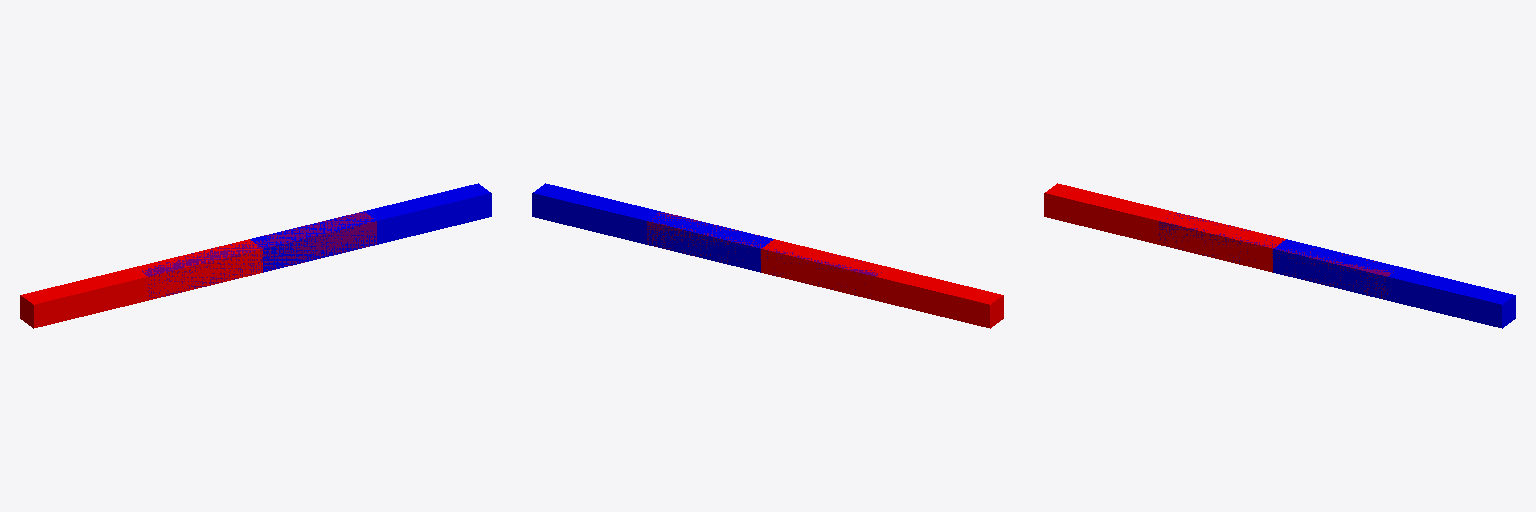
robot.urdf — rr_manipulator:
<?xml version="1.0"?> 
<!-- Revolute-Revolute Manipulator -->
<robot name="rr_manipulator">
  <gazebo>
    <plugin
      name="ros_control" 
      filename="libros_control_gazebo_plugin.so"/>
  </gazebo>

  <link name="link1">
    <origin xyz="0 0 0" rpy="0 0 0"/>
    <collision name="collision">
      <geometry> <box size="10 1 1"/> </geometry>
    </collision>
    <visual name="visual">
      <geometry> <box size="10 1 1"/> </geometry>
      <material> <color rgba="1 0 0 1"/> </material>
    </visual>
  </link>

  <link name="link2">
    <origin xyz="0 0 0" rpy="0 0 0"/>
    <collision name="collision">
      <geometry> <box size="10 1 1"/> </geometry>
    </collision>
    <visual name="visual">
      <geometry> <box size="10 1 1"/> </geometry>
      <material> <color rgba="0.5 0 0.5 1"/> </material>
    </visual>
  </link>

  <link name="link3">
    <origin xyz="0 0 0" rpy="0 0 0"/>
    <collision name="collision">
      <geometry> <box size="10 1 1"/> </geometry>
    </collision>
    <visual name="visual">
      <geometry> <box size="10 1 1"/> </geometry>
      <material> <color rgba="0 0 1 1"/> </material>
    </visual>
  </link>

  <joint name="joint1" type="revolute">
    <parent link="link1"/>
    <child link="link2"/>
    <origin xyz="5 0 0" rpy="0 0 0"/>
    <axis xyz="0 0 1"/>
    <limit lower="-0.4" upper="0.4"/>
  </joint>

  <joint name="joint2" type="revolute">
    <parent link="link2"/>
    <child link="link3"/>
    <origin xyz="5 0 0" rpy="0 0 0"/>
    <axis xyz="0 0 1"/>
    <limit lower="-0.4" upper="0.4"/>
  </joint>
</robot>

--- Facts derived from the render (not from the file) ---
Views: 3 orthographic renders of the robot side by side, from view 1: azimuth 30°, elevation 25°; view 2: azimuth 150°, elevation 25°; view 3: azimuth 330°, elevation 25°.
Model rr_manipulator with 3 links and 2 joints (2 revolute), rooted at link1, posed all joints at 0.
Visible links, largest first — view 1: link1, link3, link2; view 2: link1, link3, link2; view 3: link3, link1, link2.
Boxes of the visible links, box(x1,y1,x2,y2) form: link1: box(20, 239, 262, 328); link3: box(250, 183, 491, 272); link2: box(142, 211, 376, 299); link1: box(761, 239, 1003, 328); link3: box(532, 183, 773, 272); link2: box(647, 212, 881, 298); link3: box(1273, 239, 1515, 328); link1: box(1044, 183, 1285, 272); link2: box(1159, 213, 1393, 298).
Size in the robot's own frame: 20 by 1 by 1 metres.
Geometry: primitives only (box / cylinder / sphere), no mesh files.
